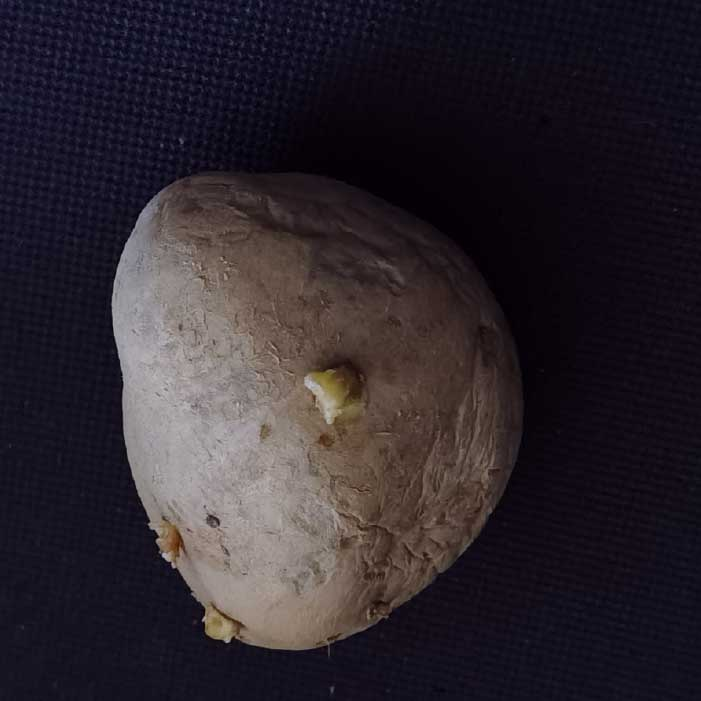Kartoffel: (111, 172, 525, 651)
